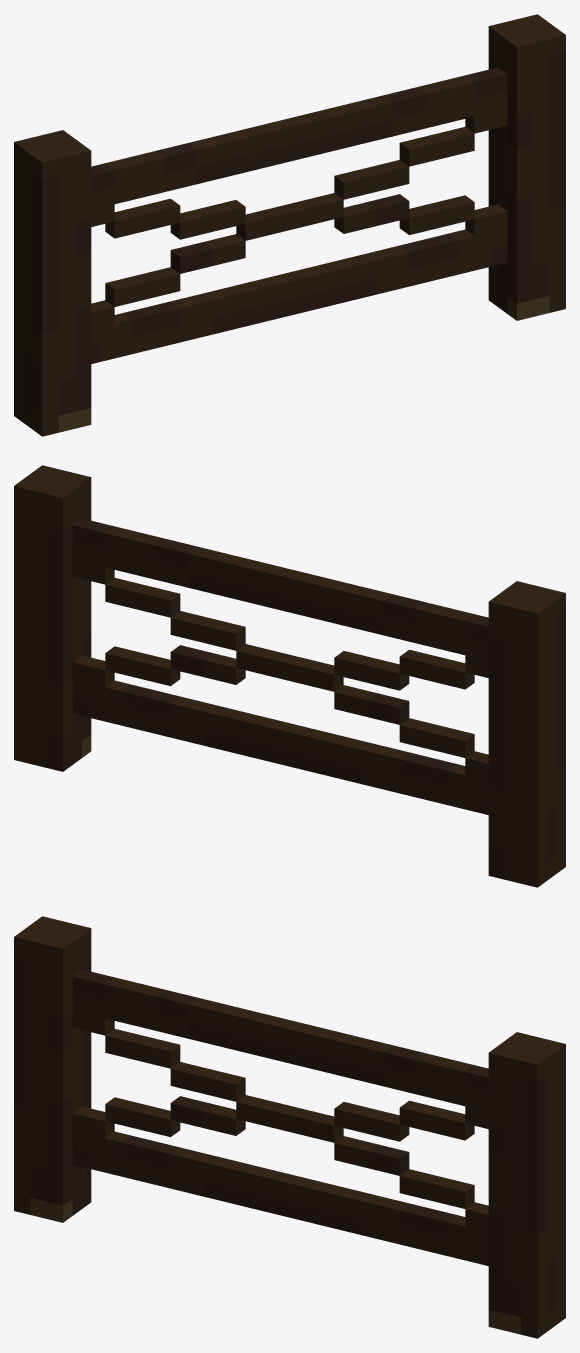
File: fence_vox.fbx
3 renders of one model, top to bottom at view 1: azimuth 30°, elevation 25°; view 2: azimuth 150°, elevation 25°; view 3: azimuth 330°, elevation 25°, orthographic.
Visible parts, largest first — view 1: Mesh; view 2: Mesh; view 3: Mesh.
Part boxes in pixels (box(x1,y1,x2,y2)): Mesh: box(14, 14, 565, 436); Mesh: box(14, 465, 565, 887); Mesh: box(14, 916, 565, 1338).
Size of the model in its own units: 3.2 by 1.6 by 0.3.
Materials: 1 (1 with a texture image).
